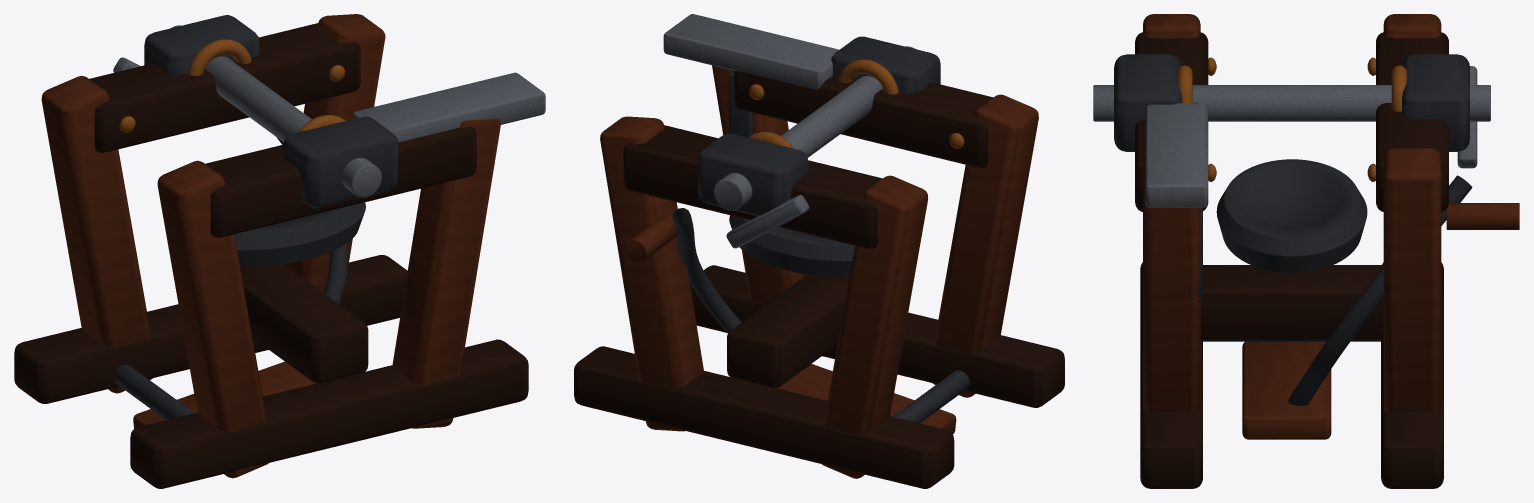
Rendered from grinder-stand.glb.
The picture shows the model from 3 angles, left to right: view 1: azimuth 30°, elevation 25°; view 2: azimuth 150°, elevation 25°; view 3: azimuth 270°, elevation 25°; orthographic projection. The views are drawn at different scales.
Parts seen in each view (by area): view 1: grinder-stand; view 2: grinder-stand; view 3: grinder-stand.
Boxes of the visible parts, <box> form: grinder-stand: <box>14,14,545,488</box>; grinder-stand: <box>574,14,1064,488</box>; grinder-stand: <box>1093,14,1519,488</box>.
Size of the model in its own units: 1.8 by 1.49 by 1.63.
Materials: 5 (5 with a texture image).
